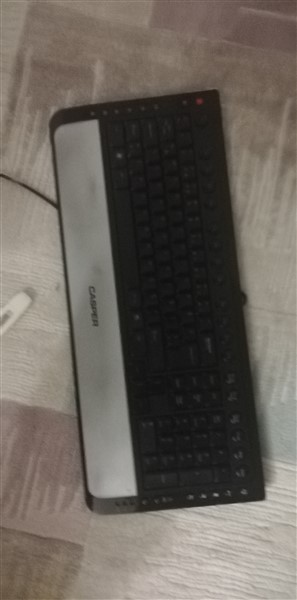flash disk: (1, 286, 35, 335)
klavye: (42, 87, 272, 519)
